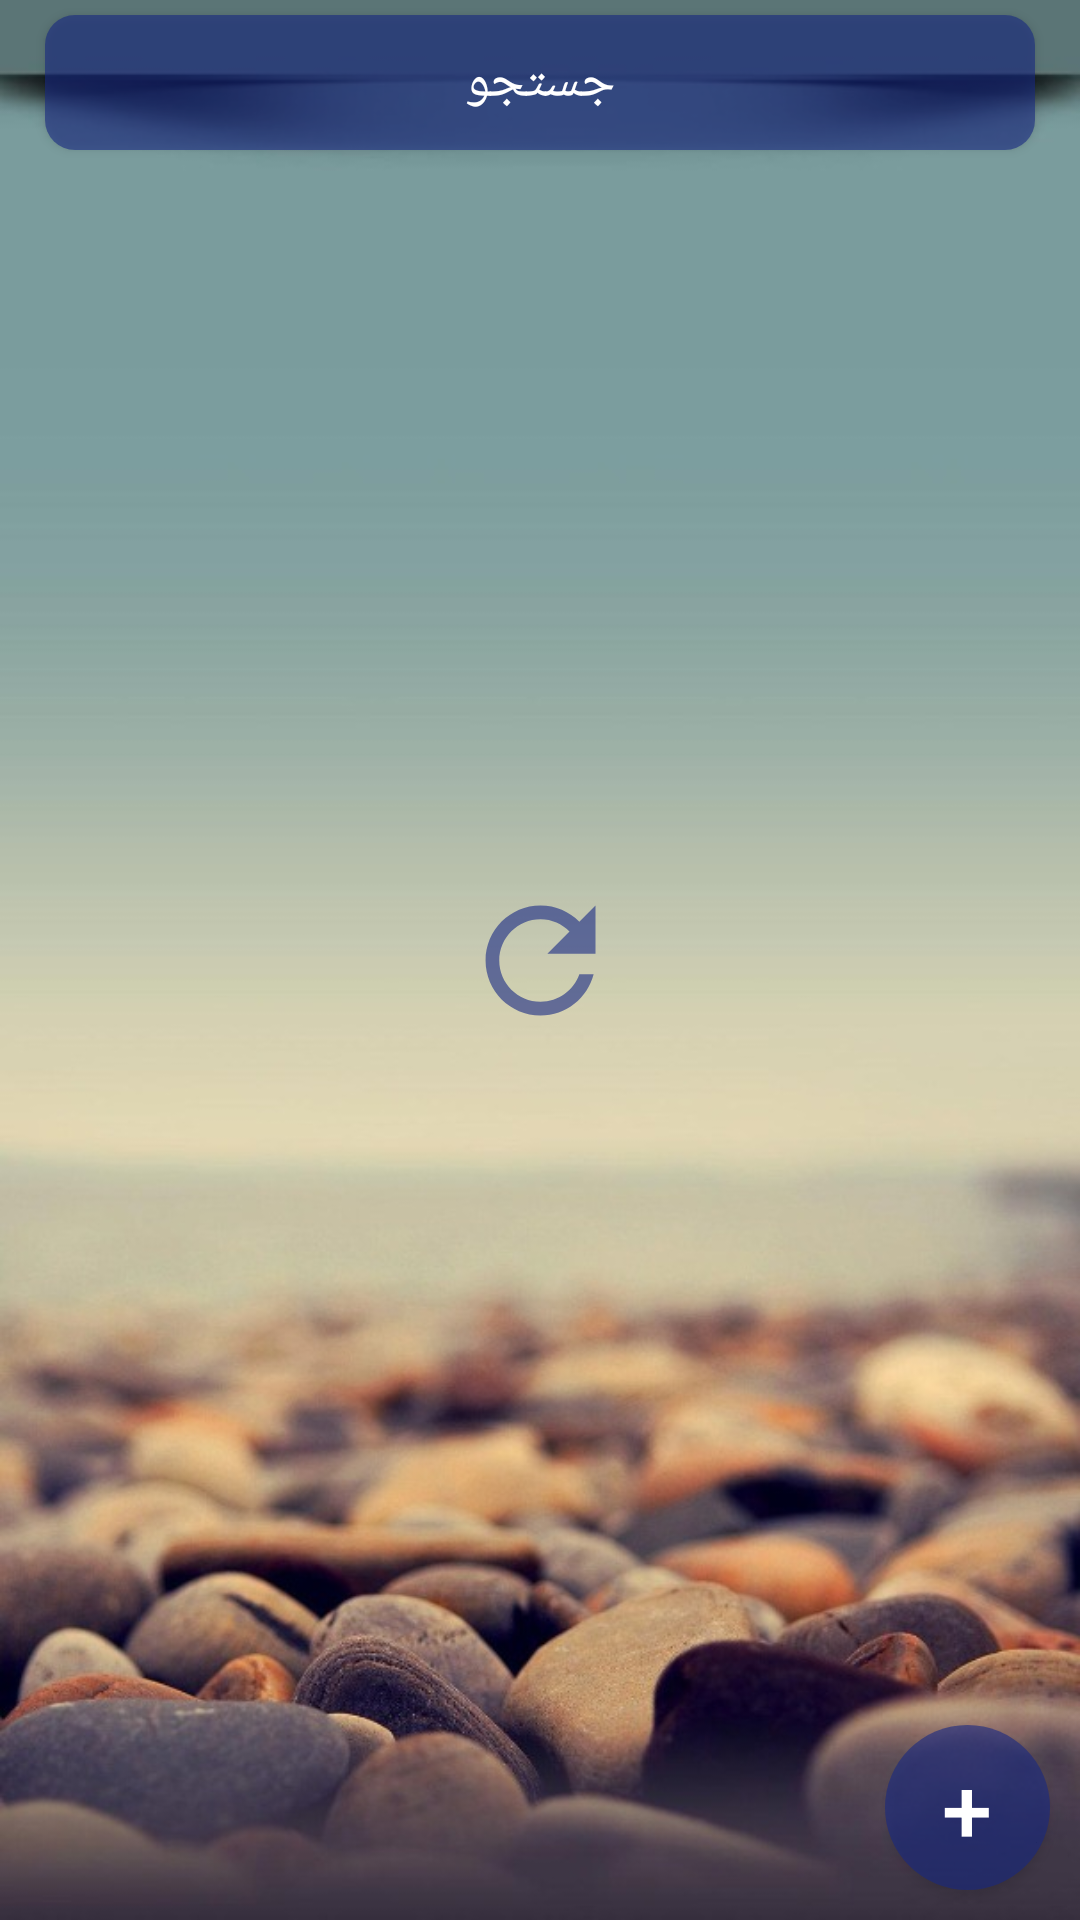

Where to tap for icons on this 1080w x 1920h app screen, as (x,y):
refresh: (540,974)
